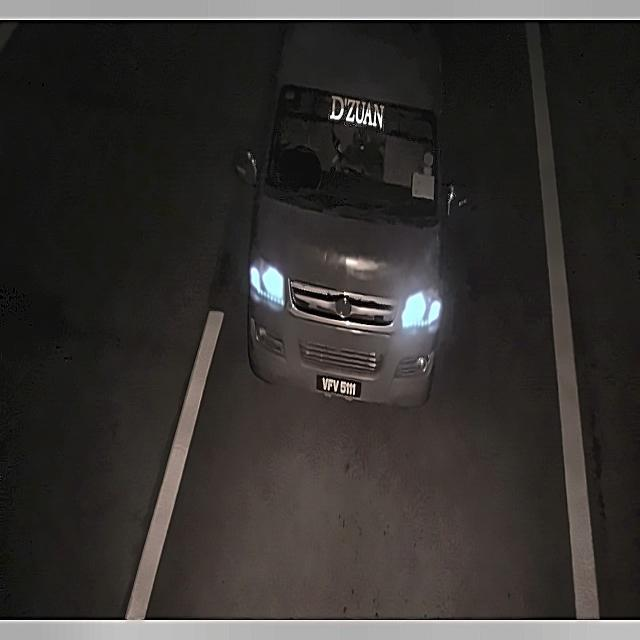car: (312, 367, 367, 407)
